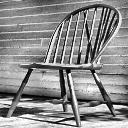chair_success: (2, 0, 128, 128)
